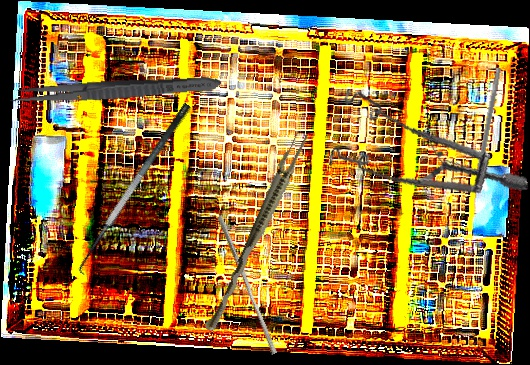Dressing Forceps: (9, 72, 222, 108)
Pusher: (211, 214, 283, 356)
Spatula Surgical: (69, 102, 206, 280), (468, 66, 502, 193)
Speculum: (317, 61, 529, 223)
Tissue Forceps: (203, 128, 311, 336)
